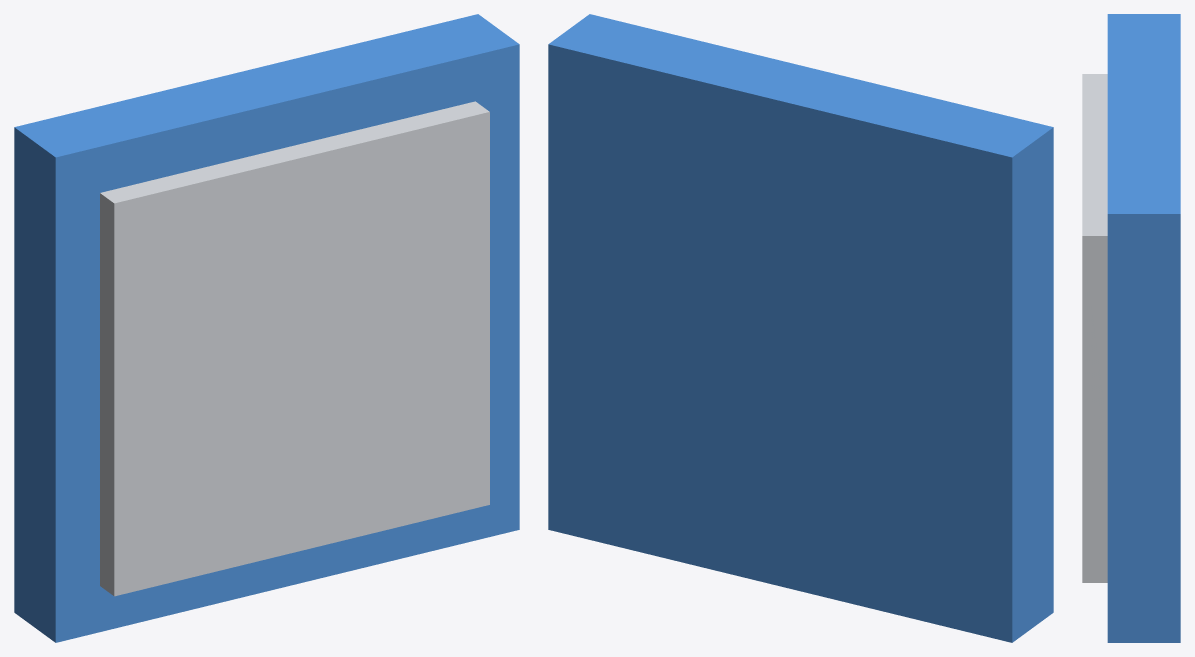
Rendered from chassis.glb.
The picture shows the model from 3 angles, left to right: view 1: azimuth 30°, elevation 25°; view 2: azimuth 150°, elevation 25°; view 3: azimuth 270°, elevation 25°; orthographic projection. The views are drawn at different scales.
Parts seen in each view (by area): view 1: NOSIMPLIFY_chassis; view 2: NOSIMPLIFY_chassis; view 3: NOSIMPLIFY_chassis.
Part boxes in pixels (box(x1,y1,x2,y2)): NOSIMPLIFY_chassis: box(14, 14, 519, 642); NOSIMPLIFY_chassis: box(548, 14, 1053, 642); NOSIMPLIFY_chassis: box(1082, 14, 1180, 642).
Size of the model in its own units: 0.84 by 0.84 by 0.175.
